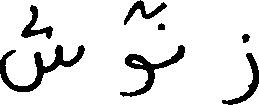X: (0, 0, 81, 96), (126, 0, 154, 101), (225, 29, 258, 104), (177, 40, 185, 66)
